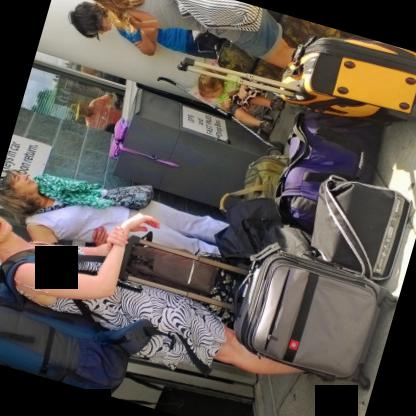backpack: (0, 278, 164, 390)
handbag: (307, 176, 410, 275), (128, 243, 218, 295), (35, 184, 156, 214), (110, 117, 181, 167), (175, 0, 260, 34)
suitcase: (233, 241, 398, 388), (173, 31, 416, 126), (214, 10, 358, 80), (229, 153, 292, 200), (192, 28, 223, 53)
